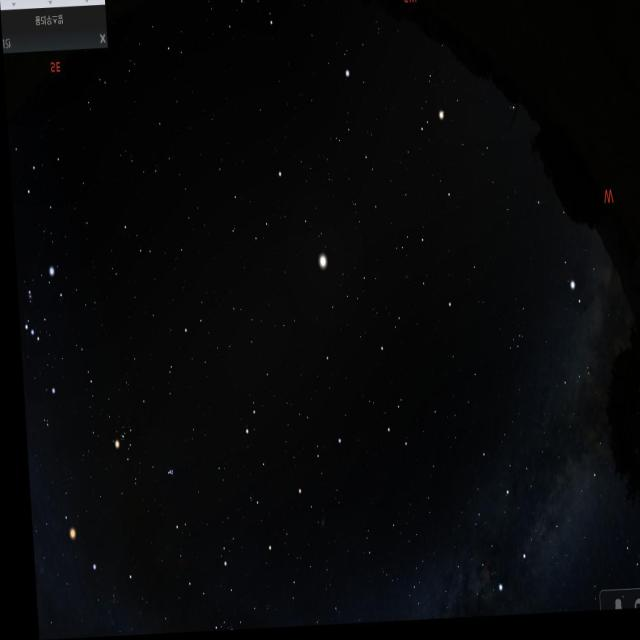cygnus: (483, 447, 606, 621)
pleiades: (158, 467, 172, 489)
taurus: (99, 401, 170, 514)
